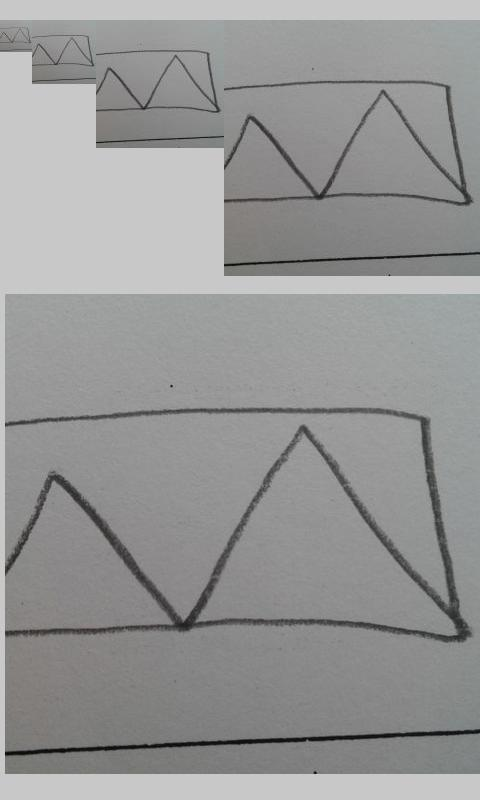image_view: (6, 406, 470, 646), (225, 78, 473, 208), (95, 50, 221, 114), (32, 34, 94, 67), (1, 26, 31, 44)
